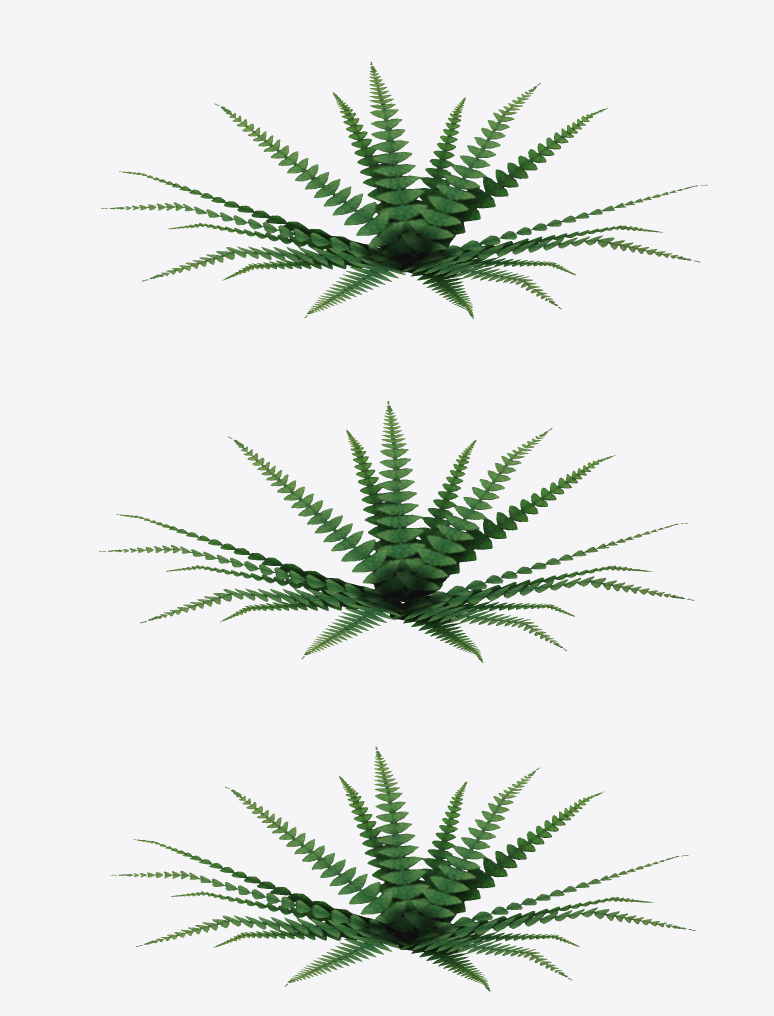
Rendered from frst_fern_green_a1_l2.fbx.
The picture shows the model from 3 angles, top to bottom: view 1: azimuth 30°, elevation 25°; view 2: azimuth 150°, elevation 25°; view 3: azimuth 270°, elevation 25°; orthographic projection. The views are drawn at different scales.
Visible parts, largest first — view 1: mesh_node; view 2: mesh_node; view 3: mesh_node.
Boxes of the visible parts, left/top/right/bottom form: mesh_node: left=101, top=62, right=707, bottom=318; mesh_node: left=99, top=401, right=694, bottom=662; mesh_node: left=110, top=747, right=695, bottom=991.
Size of the model in its own units: 2.94 by 0.3222 by 3.07.
